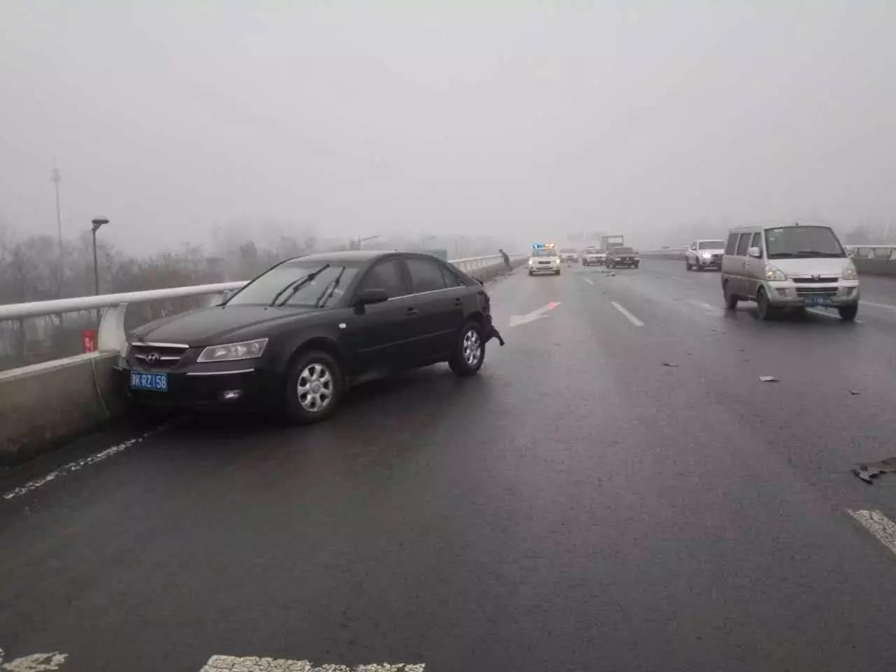bus: (598, 234, 625, 259)
car: (110, 249, 505, 425), (719, 221, 859, 321), (683, 240, 730, 271), (525, 242, 563, 276), (604, 246, 641, 269), (581, 246, 608, 267), (557, 246, 579, 264)
